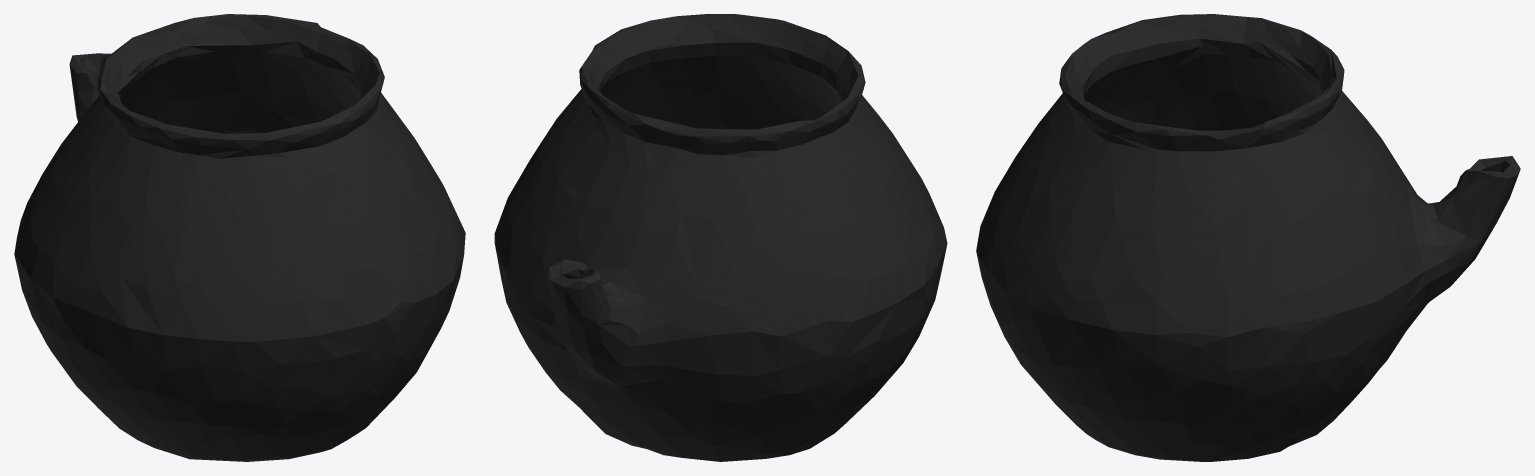
The model's file is yaktanggi.fbx.
The picture shows the model from 3 angles, left to right: view 1: azimuth 30°, elevation 25°; view 2: azimuth 150°, elevation 25°; view 3: azimuth 270°, elevation 25°; orthographic projection.
Visible parts, largest first — view 1: 약탕관; view 2: 약탕관; view 3: 약탕관.
Part boxes in pixels (x1,y1,x2,y2): 약탕관: [14, 14, 465, 461]; 약탕관: [494, 14, 947, 461]; 약탕관: [976, 14, 1520, 461].
Size of the model in its own units: 482 by 403 by 579.
Materials: 1 (1 with a texture image).
